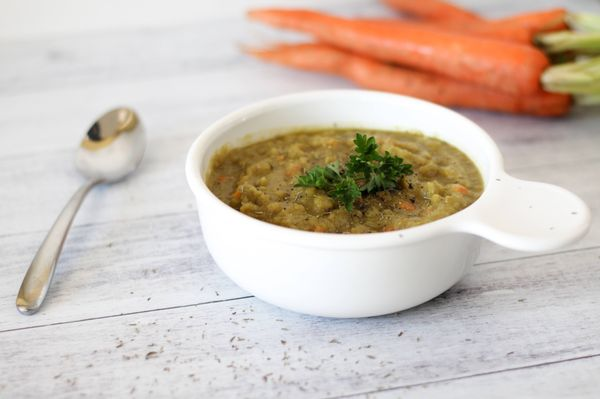curry: (345, 132, 414, 197)
salad: (14, 105, 146, 314)
sushi: (182, 90, 592, 319)
